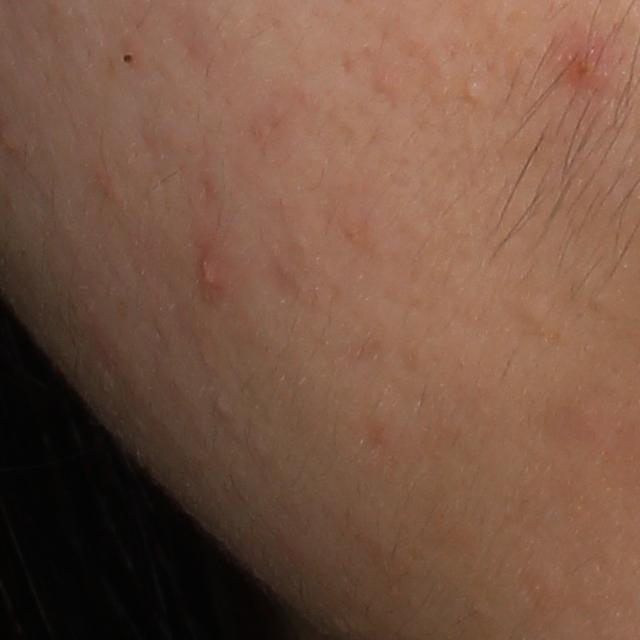comedo: (458, 78, 491, 106), (115, 49, 137, 74)
papule: (559, 35, 609, 95), (194, 249, 227, 300)
